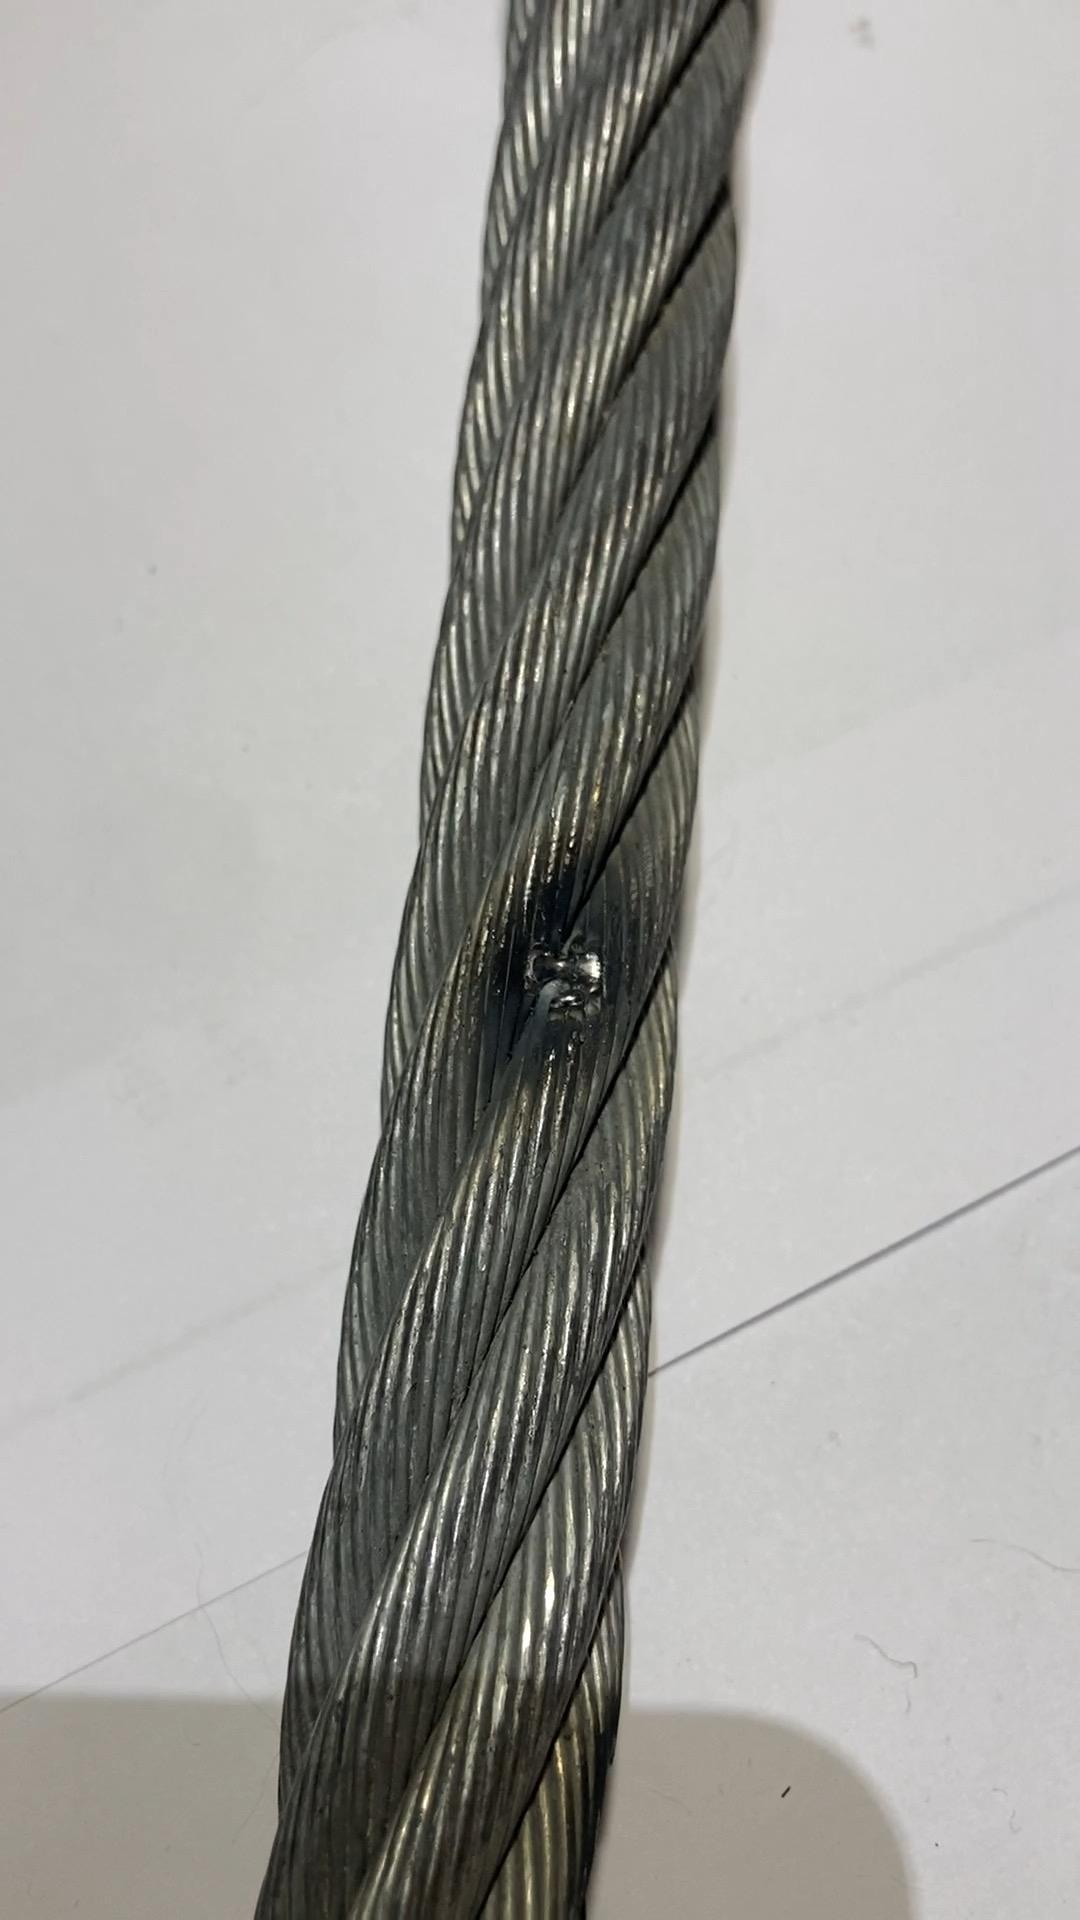thunderbolt: (492, 876, 646, 1040)
